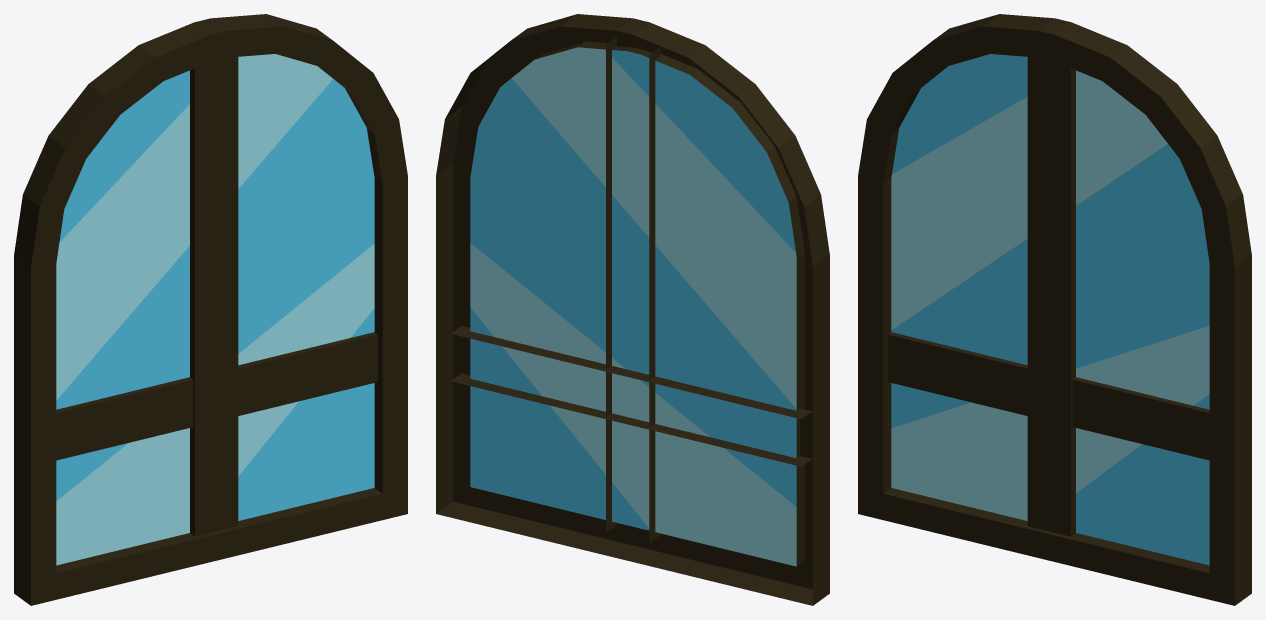
File: Prop_BuildingWindow_07.fbx
3 views of the same model, side by side, from view 1: azimuth 30°, elevation 25°; view 2: azimuth 150°, elevation 25°; view 3: azimuth 330°, elevation 25° (orthographic).
Visible parts, largest first — view 1: Prop_BuildingWindow_07; view 2: Prop_BuildingWindow_07; view 3: Prop_BuildingWindow_07.
Part boxes in pixels (x1,y1,x2,y2): Prop_BuildingWindow_07: [14, 14, 407, 605]; Prop_BuildingWindow_07: [436, 14, 829, 605]; Prop_BuildingWindow_07: [858, 14, 1251, 605].
Size of the model in its own units: 109 by 145 by 8.49.
